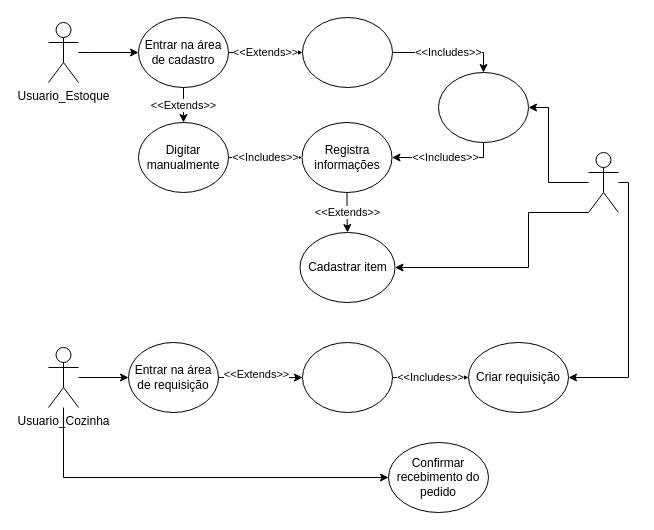
Some shapes in this 654 by 530 pixel diagram are drawn without their labels. Each missing label, with the centre of its shape:
Bipar item: the point at 347,52
Buscar informações: the point at 483,107
Requisitar itens: the point at 347,377
Sistema: the point at 603,182
